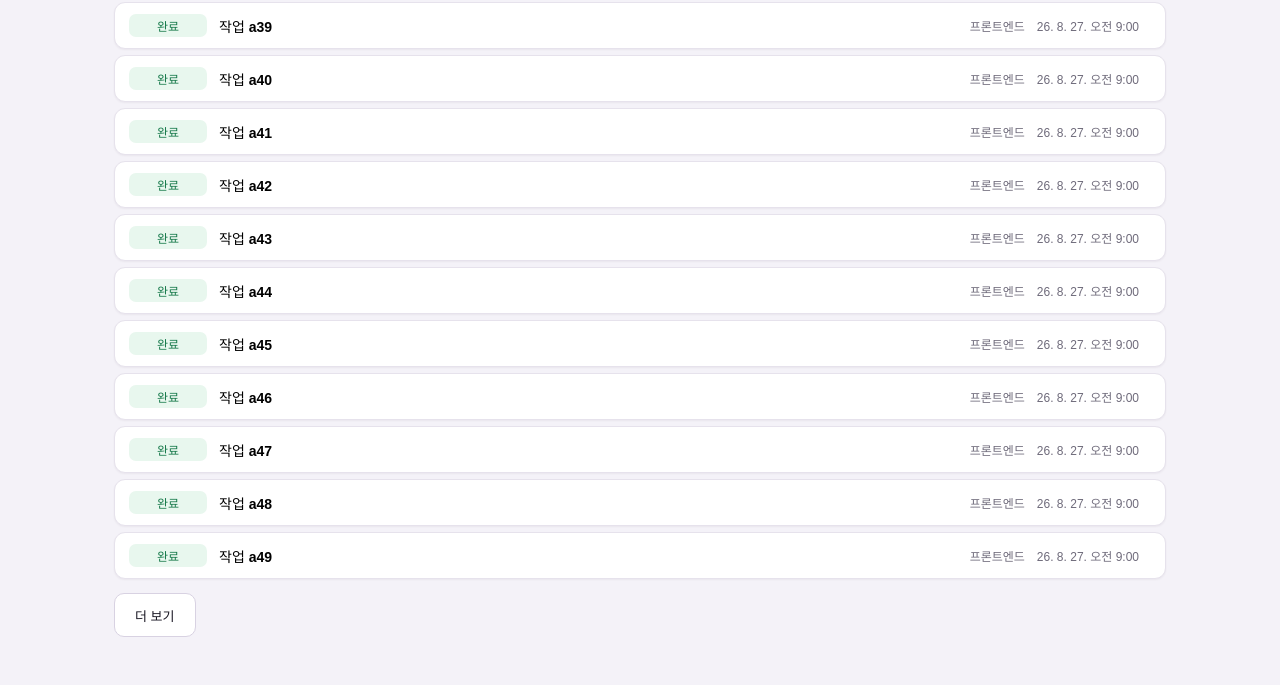
Test: 한 페이지가 가득 차면 더 보기로 다음 페이지를 이어 붙인다
The image size is (1280, 685).
(page scrolled)
Click the button "더 보기".
click(155, 615)  # box [114, 593, 196, 637]
(page scrolled)
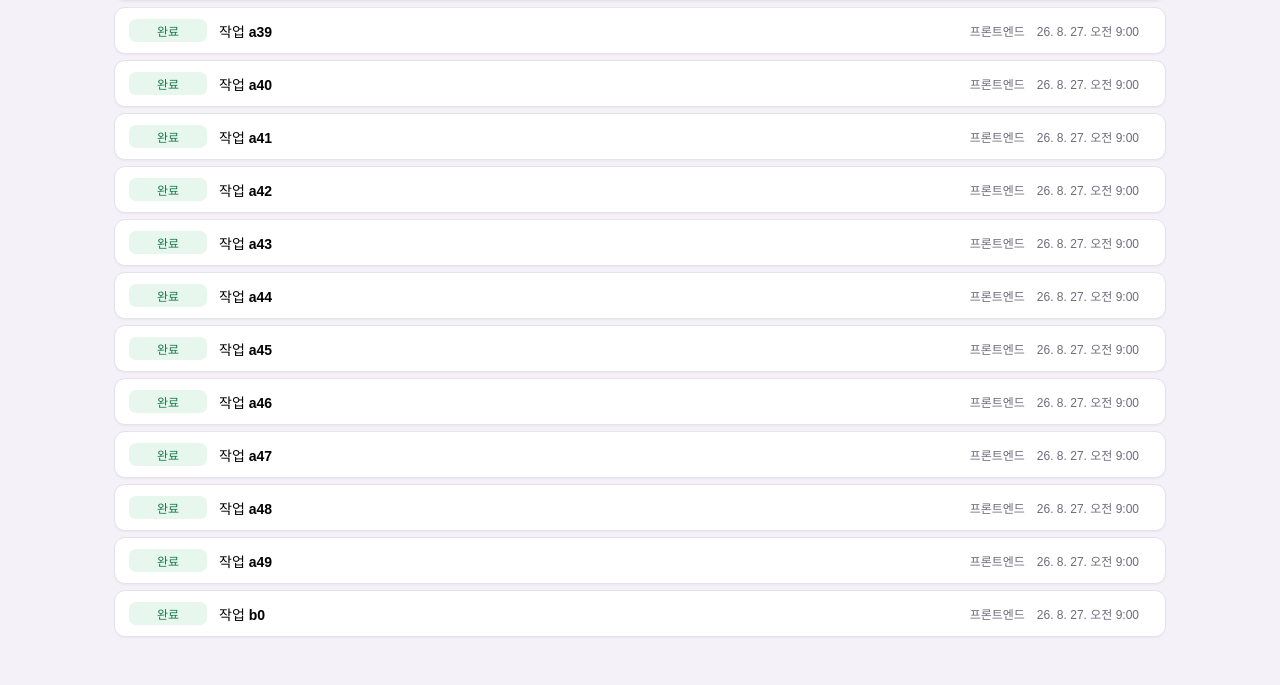
Expected: the button "작업 b0" is shown, [114, 590, 1166, 637]
Expected: the button "더 보기" is gone
